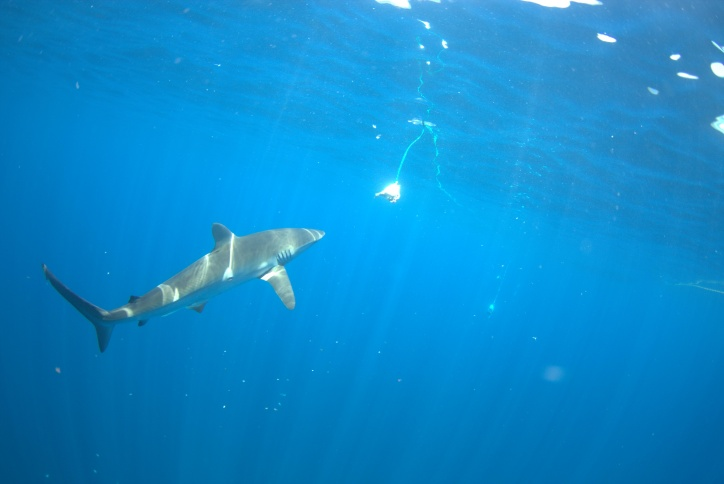Sedoso: (41, 216, 330, 365)
